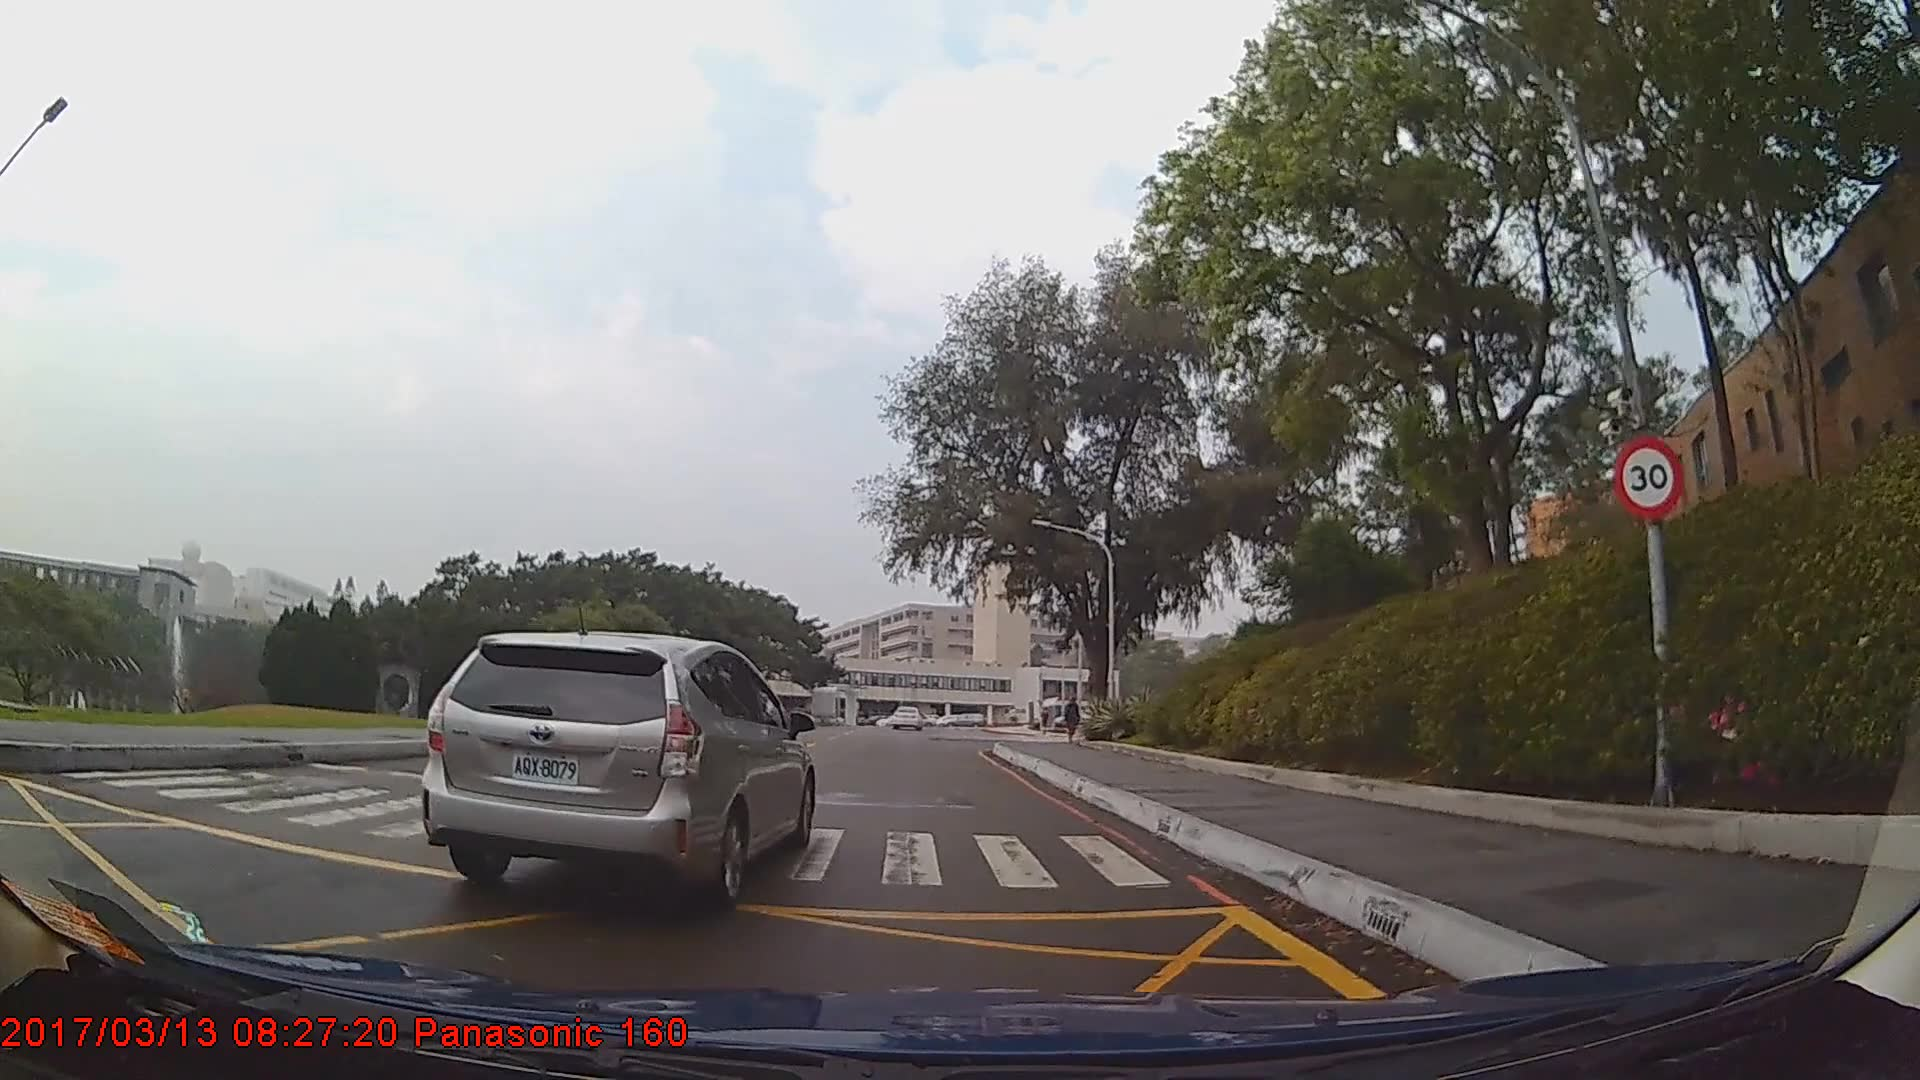pedestrian: (1063, 697, 1083, 745)
vehicle: (415, 626, 814, 905), (889, 704, 921, 731)
